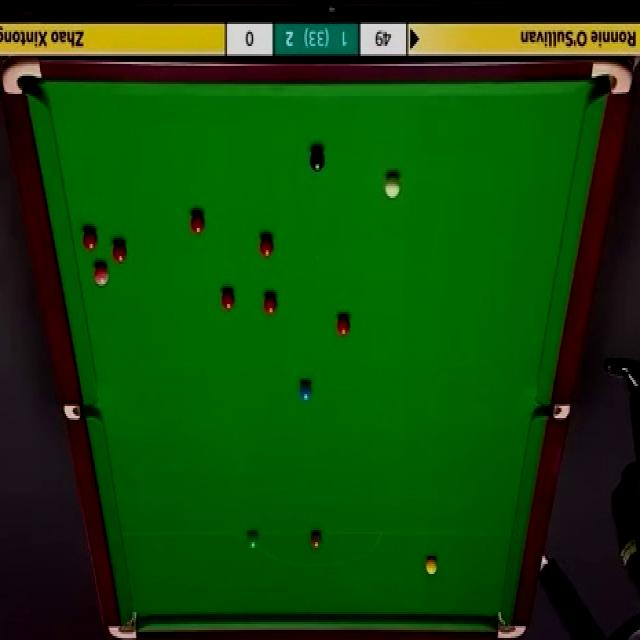pocket: (2, 58, 44, 97), (592, 58, 632, 94), (496, 609, 527, 640), (110, 611, 139, 640), (63, 404, 101, 418), (538, 403, 569, 420)
